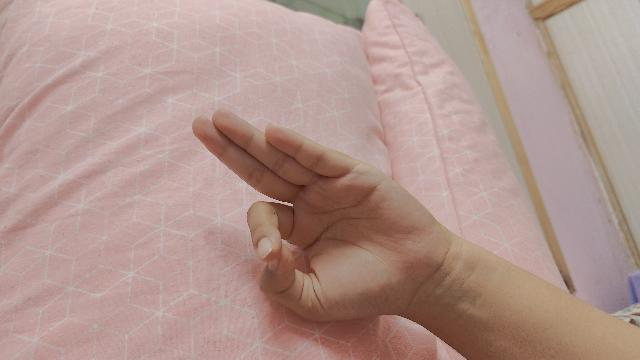aral: (193, 112, 640, 360)
